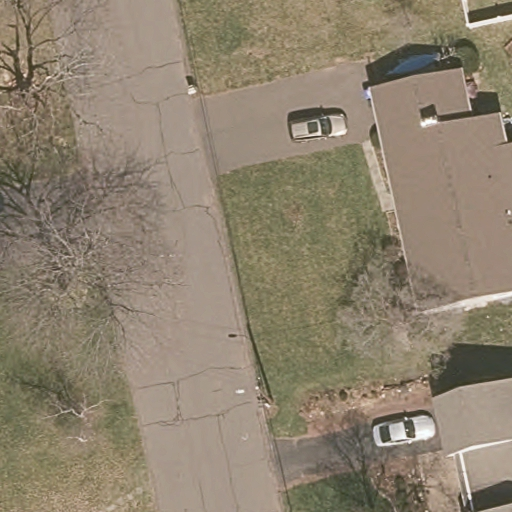DT: (235, 379, 274, 411)
